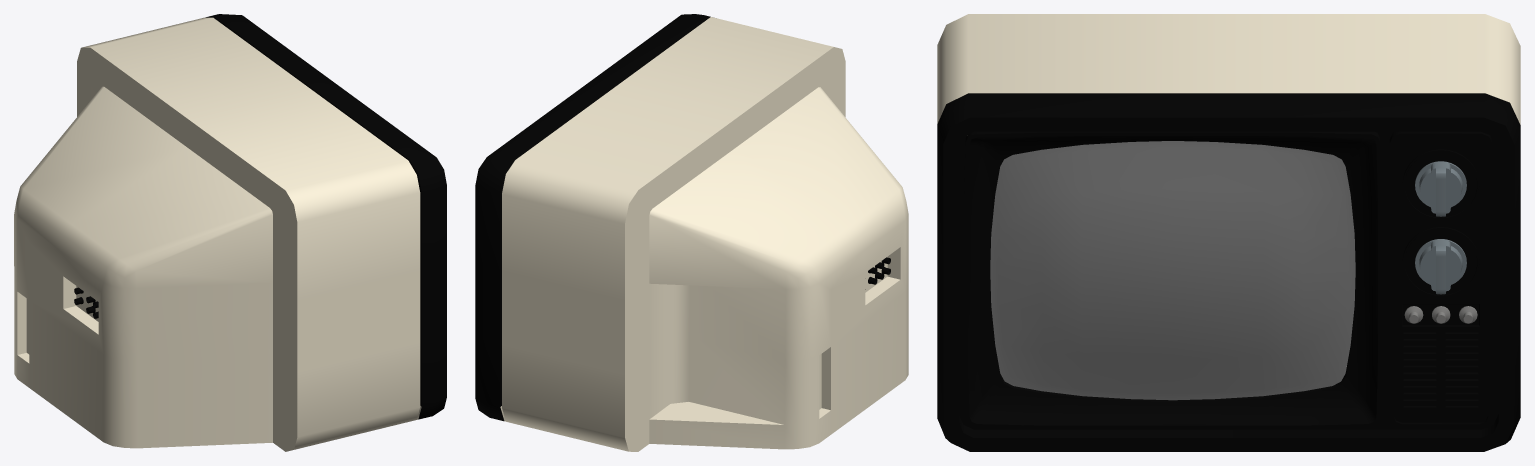
The picture shows the model from 3 angles, left to right: view 1: azimuth 30°, elevation 25°; view 2: azimuth 150°, elevation 25°; view 3: azimuth 270°, elevation 25°; orthographic projection. The views are drawn at different scales.
Visible parts, largest first — view 1: screen; view 2: screen; view 3: screen.
Boxes of the visible parts, left/top/right/bottom form: screen: left=14, top=14, right=446, bottom=451; screen: left=475, top=14, right=908, bottom=451; screen: left=937, top=14, right=1520, bottom=451.
Bounding box in the file's own units: 836 × 726 × 1110.
